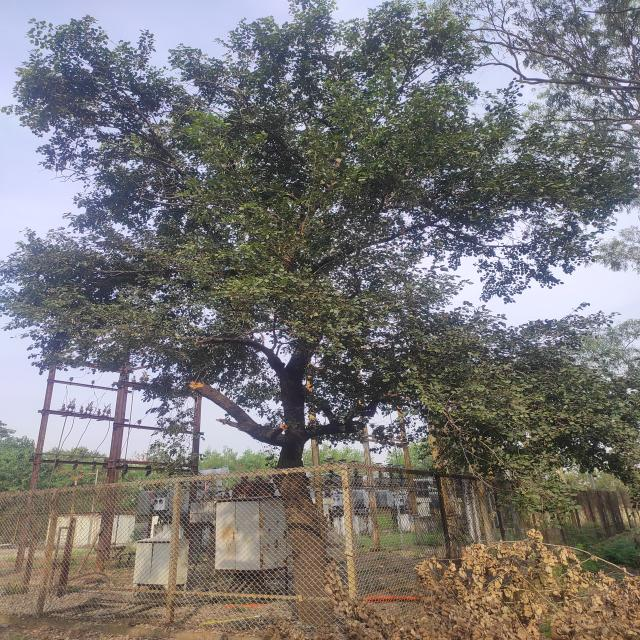Devakanchan tree: (33, 23, 558, 416)
